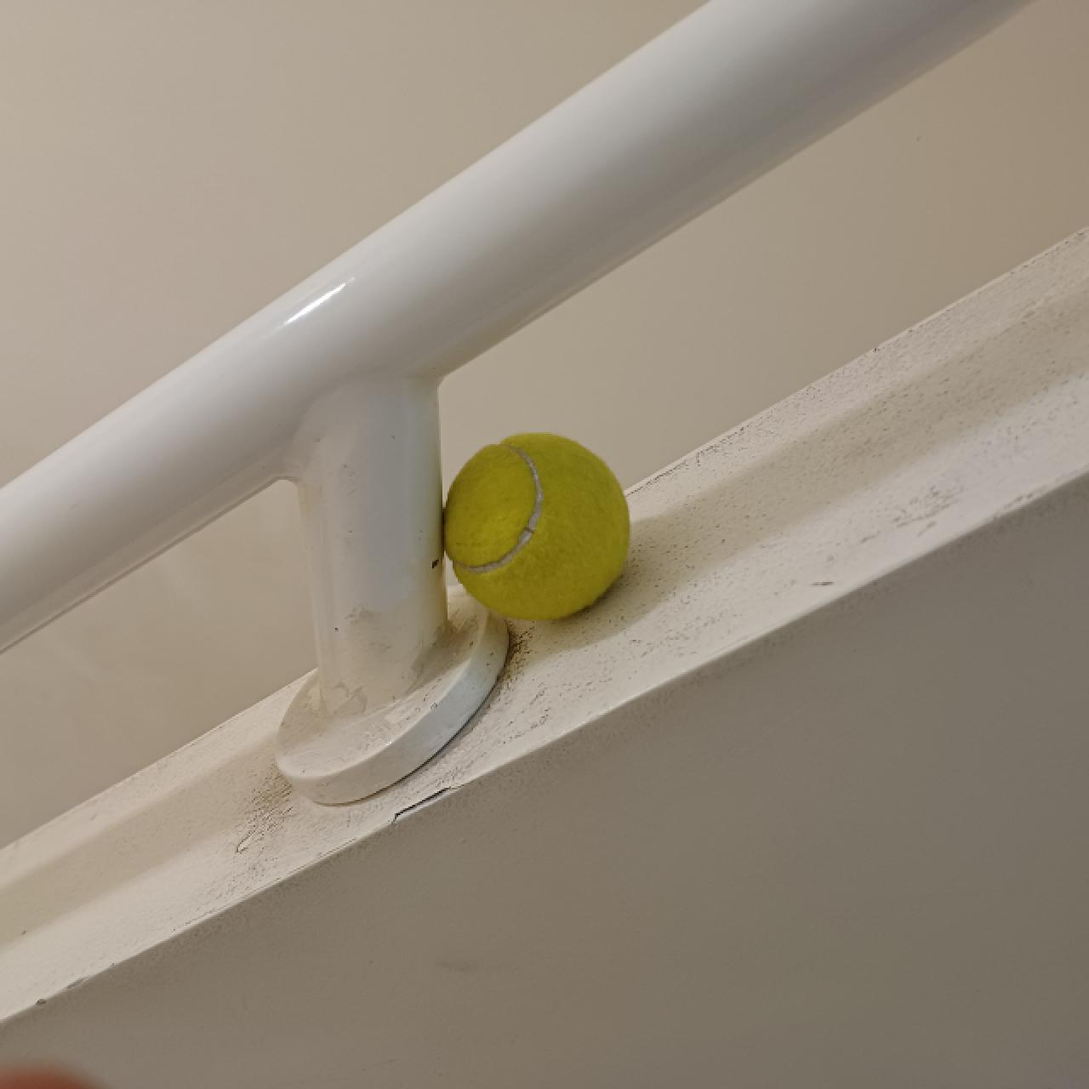tennis-ball: (441, 430, 636, 625)
